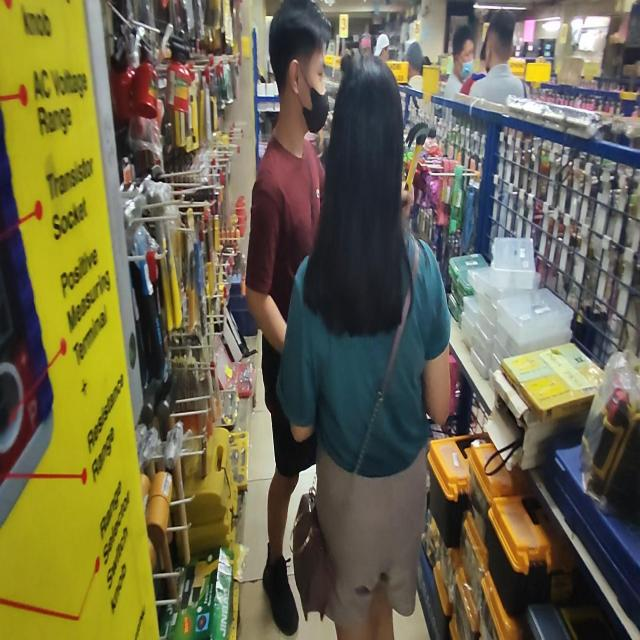hammer: (406, 121, 436, 196)
